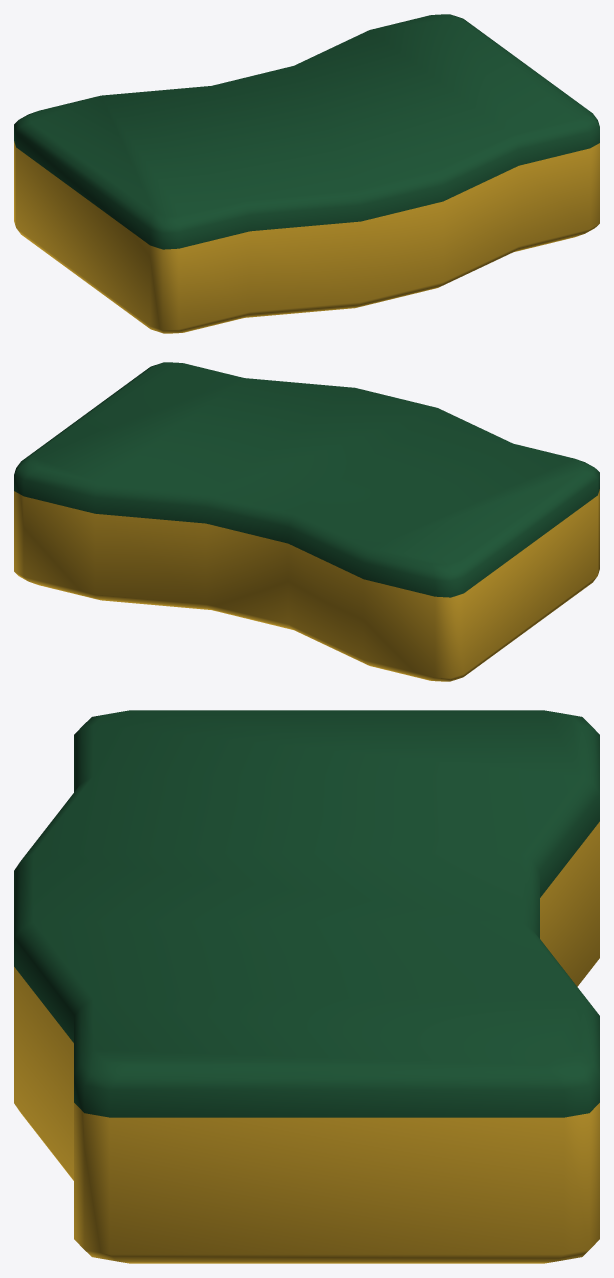
The model's file is Sponge.fbx.
3 views of the same model, one above another, from view 1: azimuth 30°, elevation 25°; view 2: azimuth 150°, elevation 25°; view 3: azimuth 270°, elevation 25° (orthographic). The views are drawn at different scales.
Parts seen in each view (by area): view 1: Sponge; view 2: Sponge; view 3: Sponge.
Part boxes in pixels (left/top/right/bottom): Sponge: left=14, top=14, right=599, bottom=333; Sponge: left=14, top=362, right=599, bottom=681; Sponge: left=14, top=710, right=599, bottom=1263.
Size of the model in its own units: 10 by 2.5 by 6.68.
